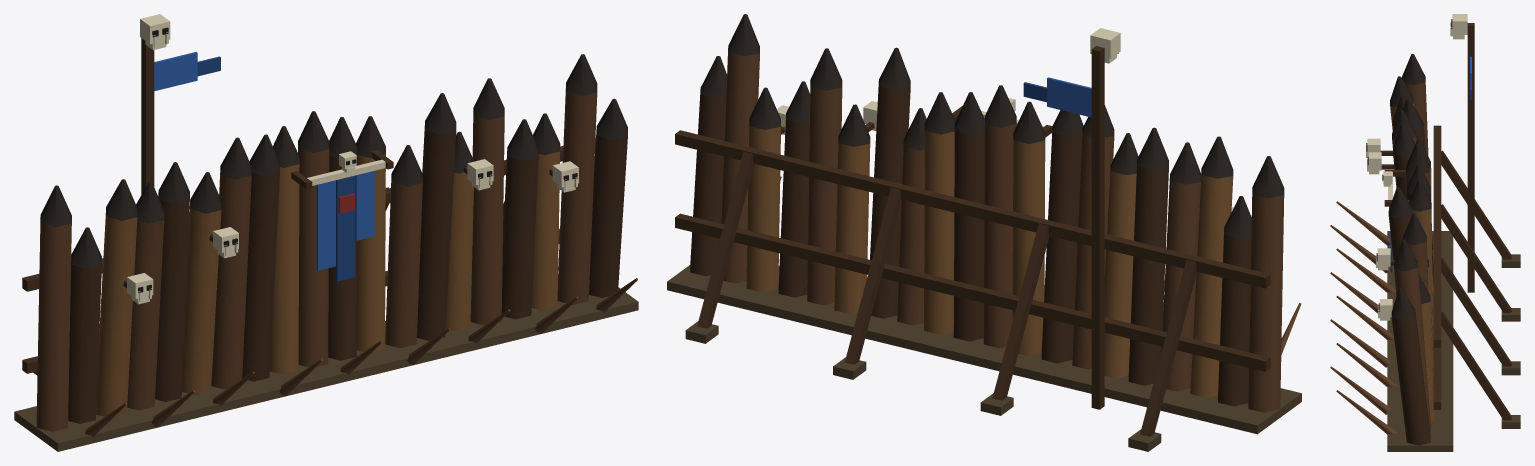
Rendered from orc-palisade-segment.glb.
3 views of the same model, side by side, from view 1: azimuth 30°, elevation 25°; view 2: azimuth 150°, elevation 25°; view 3: azimuth 270°, elevation 25° (orthographic). The views are drawn at different scales.
Visible parts, largest first — view 1: orc-palisade-segment; view 2: orc-palisade-segment; view 3: orc-palisade-segment.
Part boxes in pixels (bbox=[...]): orc-palisade-segment: bbox=[14, 14, 638, 451]; orc-palisade-segment: bbox=[667, 14, 1301, 451]; orc-palisade-segment: bbox=[1330, 14, 1520, 451].
Bounding box in the file's own units: 10 × 5.95 × 3.76.
Materials: 1 (1 with a texture image).
